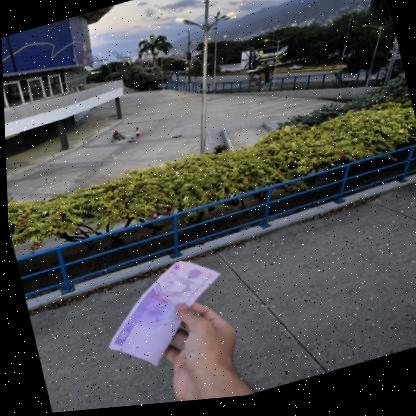one_hundred-back-vef: (89, 252, 235, 381)
